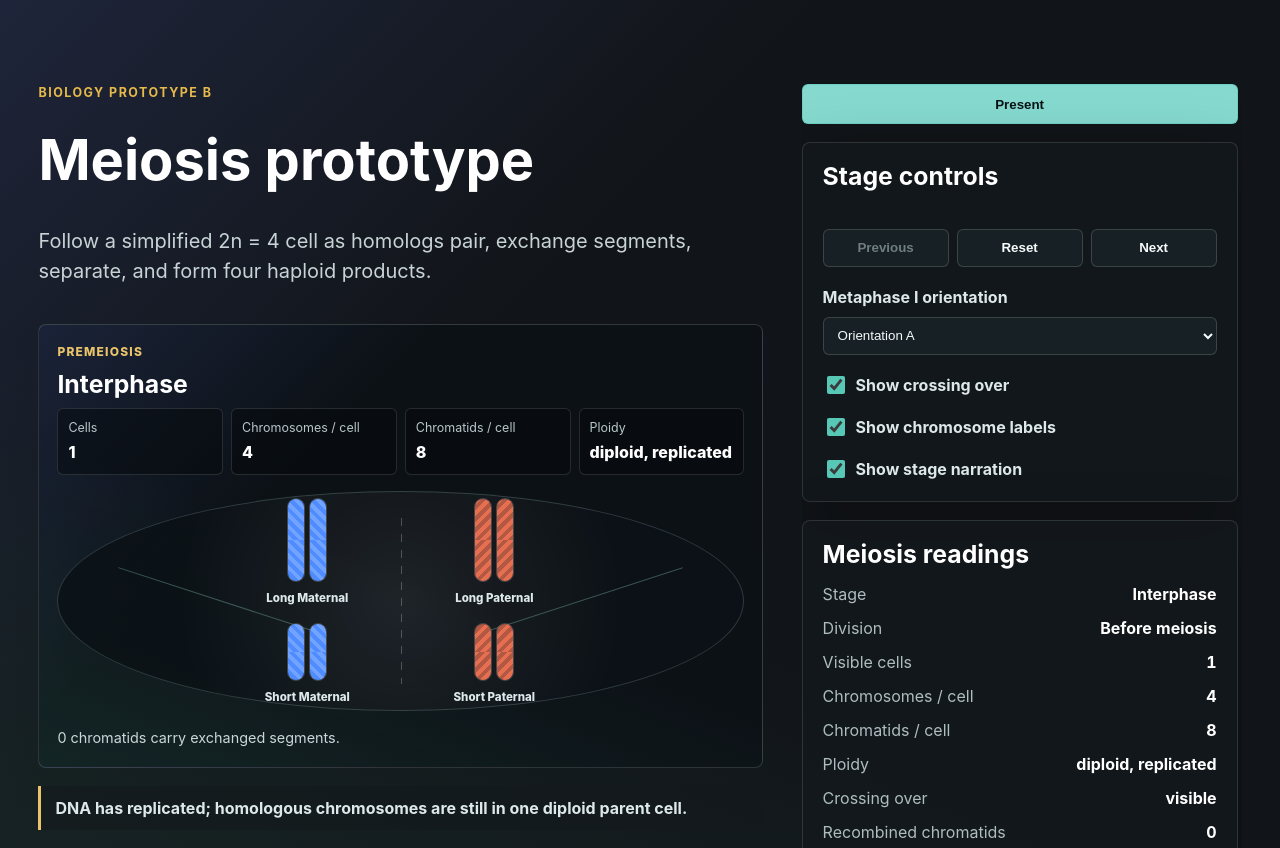
Test: MeiosisPrototype › steps through stages and resets to Interphase
The image size is (1280, 848).
What coordinates should you click on to do the following:
click the button "Next"
I would click on:
 (1154, 248)
Its box is [1091, 229, 1217, 267].
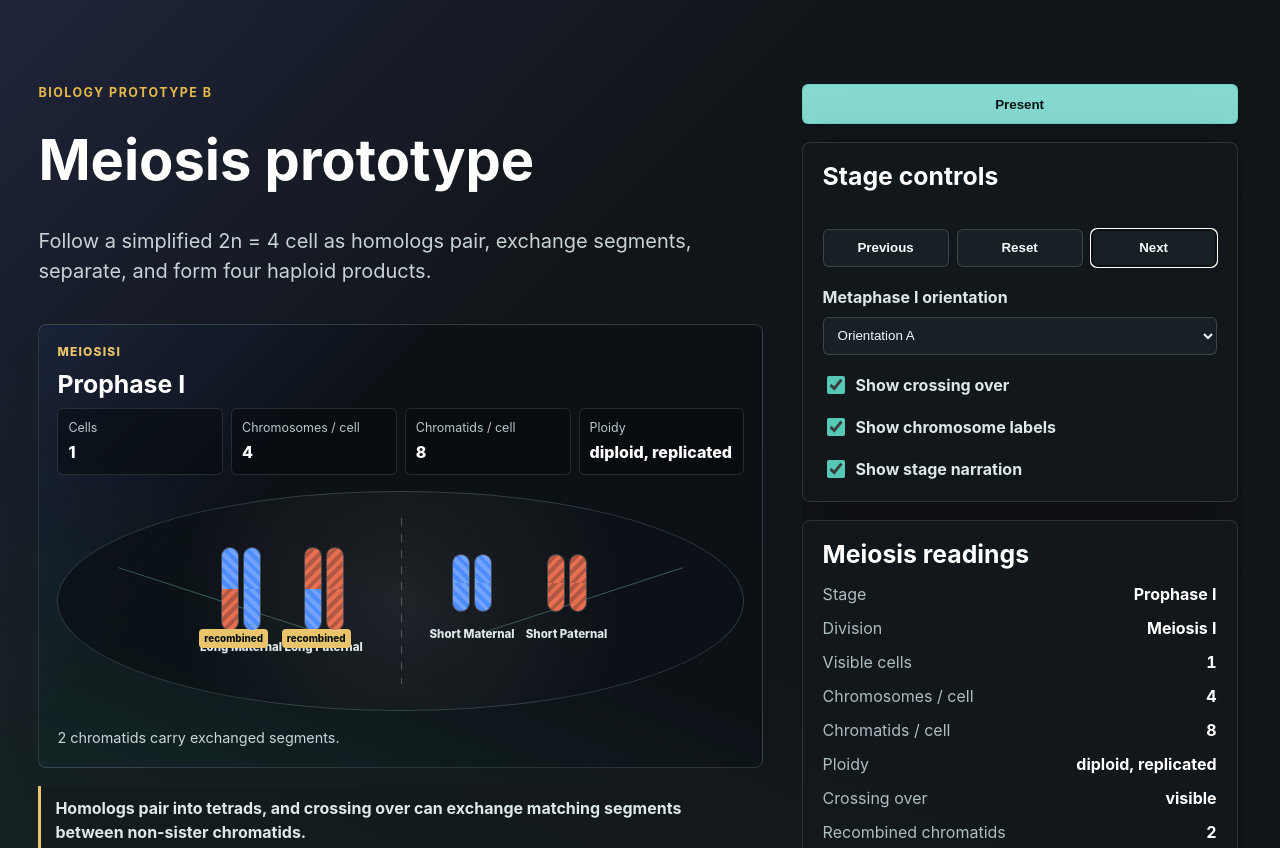
Expected: the heading "Prophase I" is shown, [57, 369, 185, 399]
Expected: the text "Meiosis I" is shown, [1147, 618, 1217, 638]
What coordinates should you click on to do the following:
click the button "Reset"
I would click on:
 (1020, 248)
Its box is [957, 229, 1083, 267].
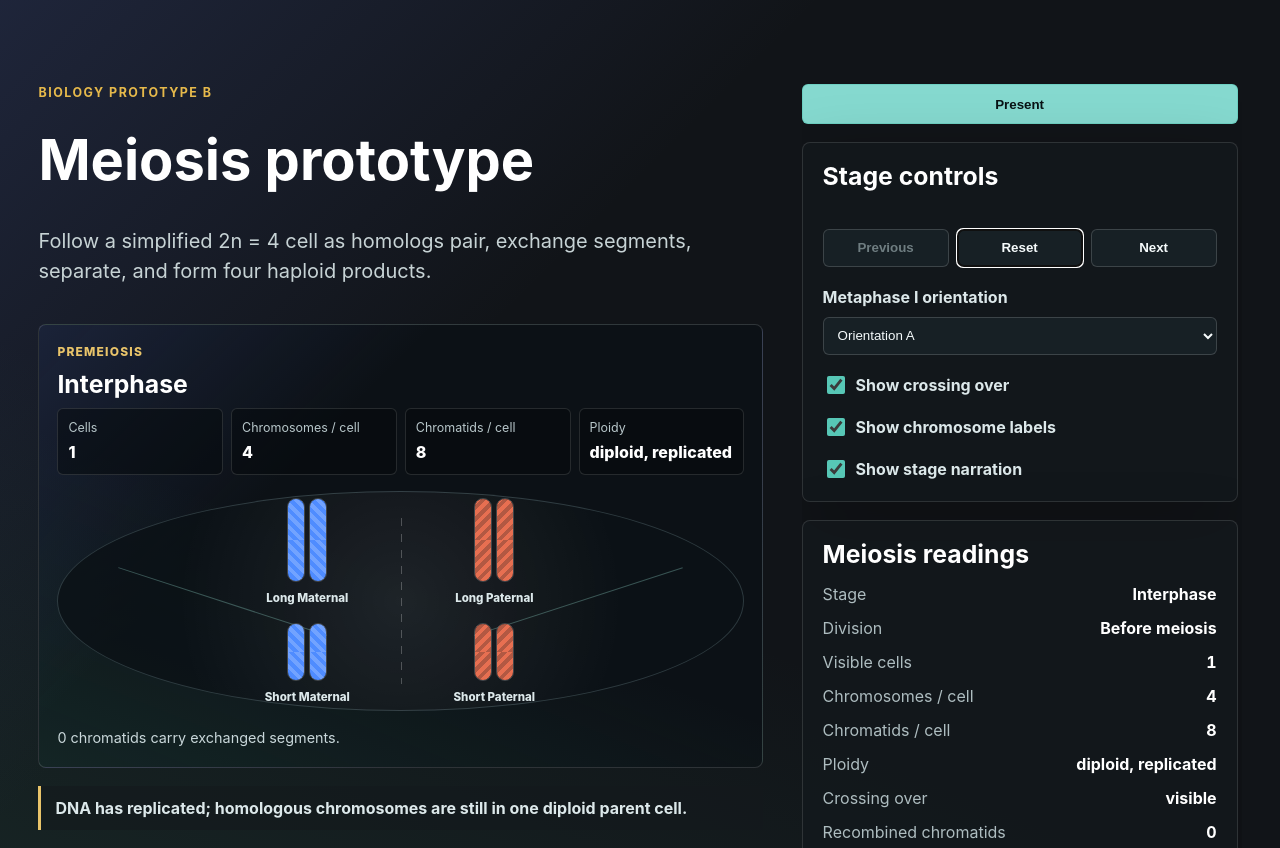
Expected: the heading "Interphase" is shown, [57, 369, 188, 399]
Expected: the text "Before meiosis" is shown, [1100, 618, 1217, 638]
